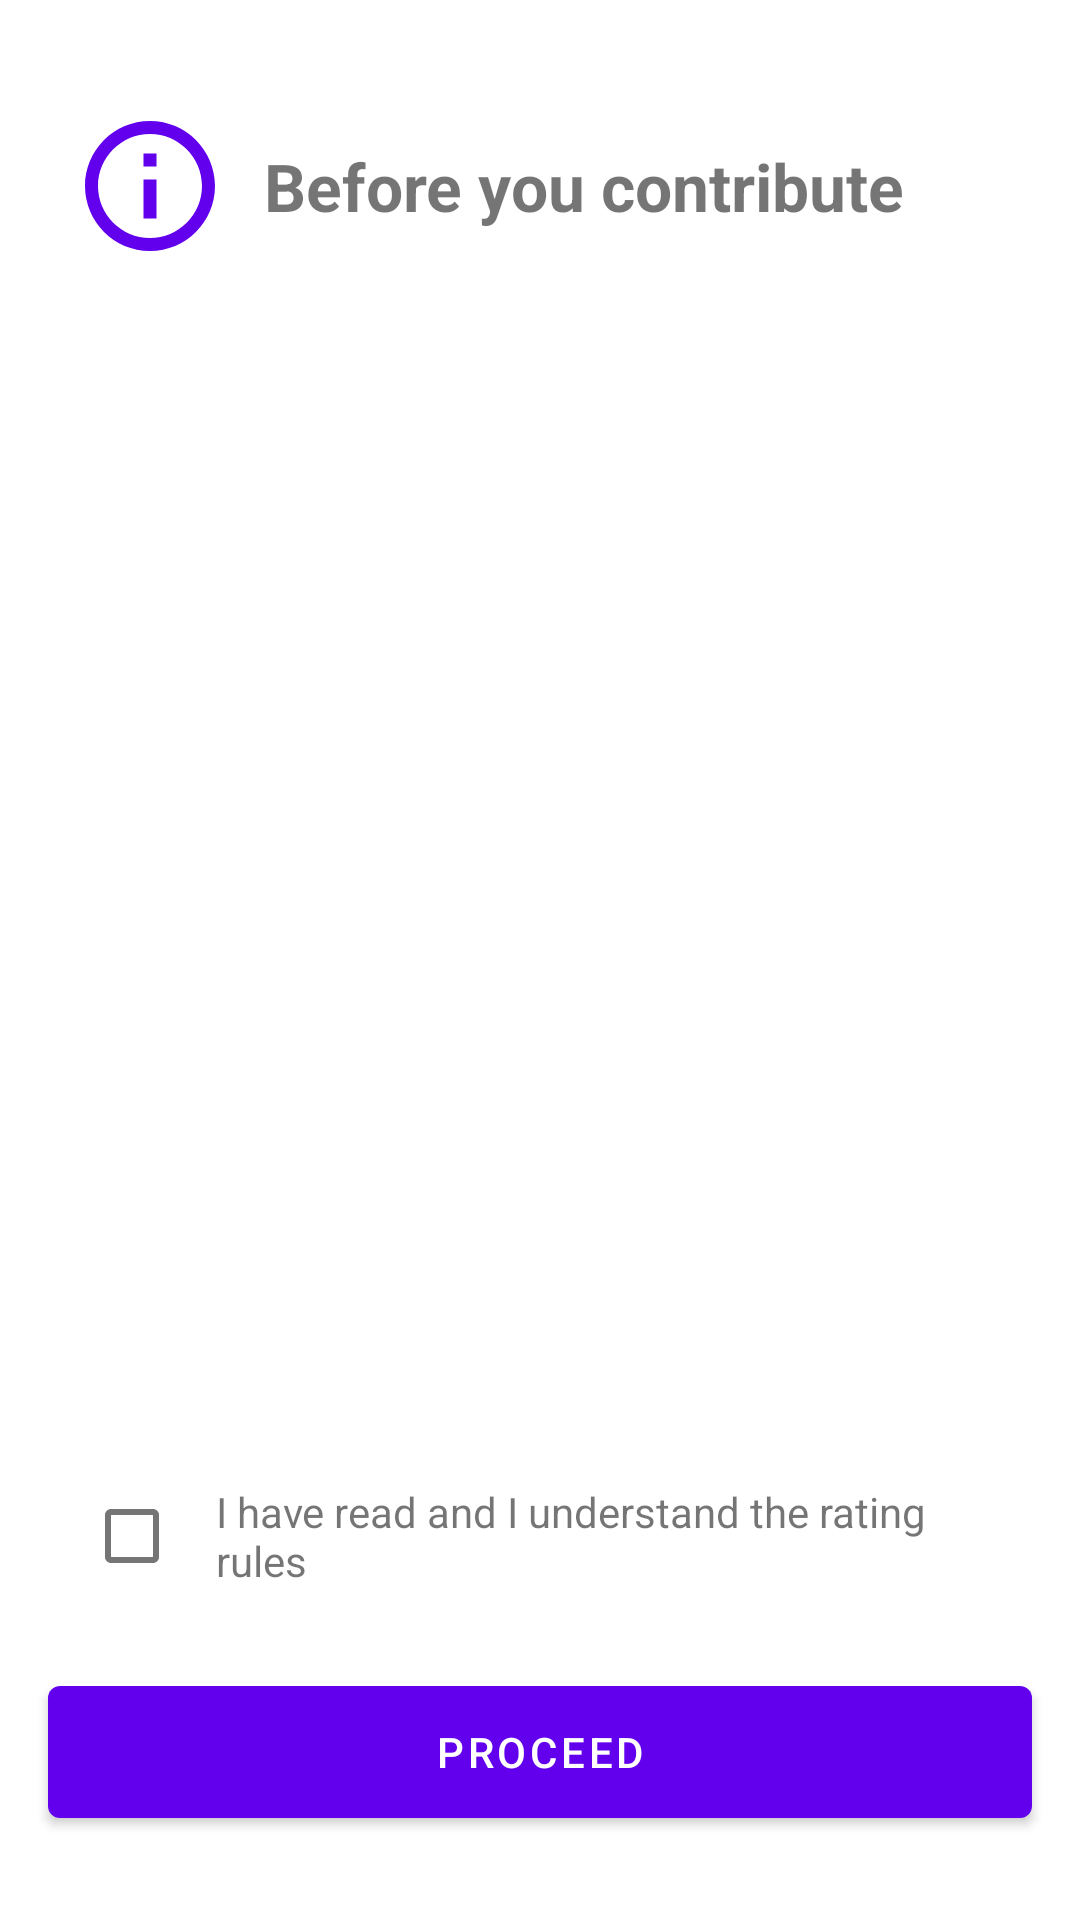

Icons on this 1080x1920 Android screen, each with the point to tap as (x,y):
notification info: (150,186)
